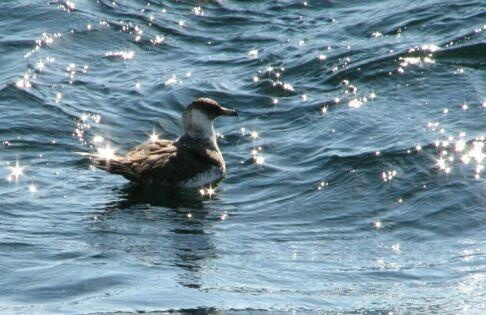bird: (82, 97, 242, 194)
